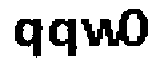0: (120, 8, 153, 50)
q: (10, 16, 44, 60), (47, 17, 78, 60)
w: (78, 16, 122, 53)
